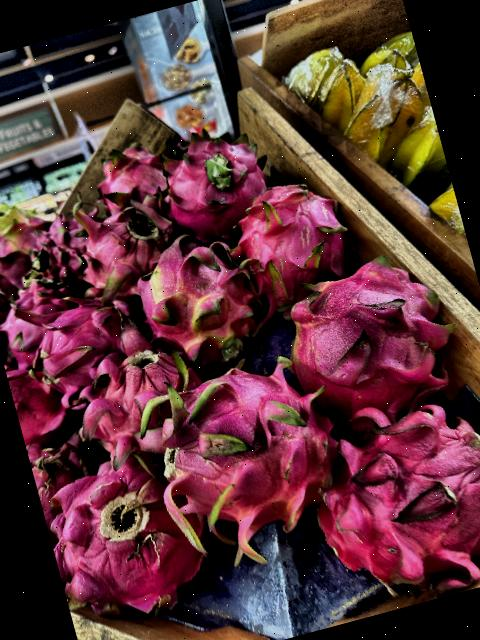buah-naga-belum-matang: (122, 225, 266, 376), (0, 189, 61, 295)
buah-naga-matang: (120, 341, 349, 559), (289, 379, 480, 609), (261, 241, 465, 435), (35, 442, 216, 624), (220, 166, 354, 306), (66, 325, 213, 445), (14, 282, 148, 408), (154, 118, 276, 240), (61, 183, 178, 289), (0, 265, 84, 357), (76, 137, 168, 214), (2, 345, 70, 446), (26, 435, 92, 501)
